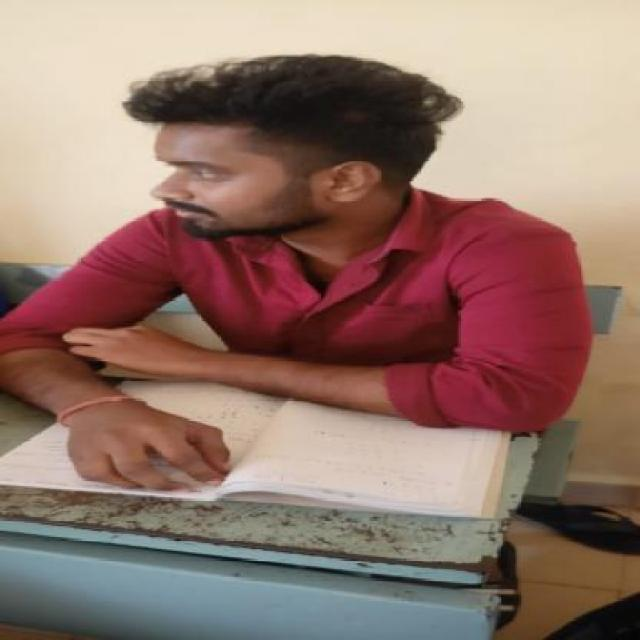cheating: (0, 52, 610, 543)
